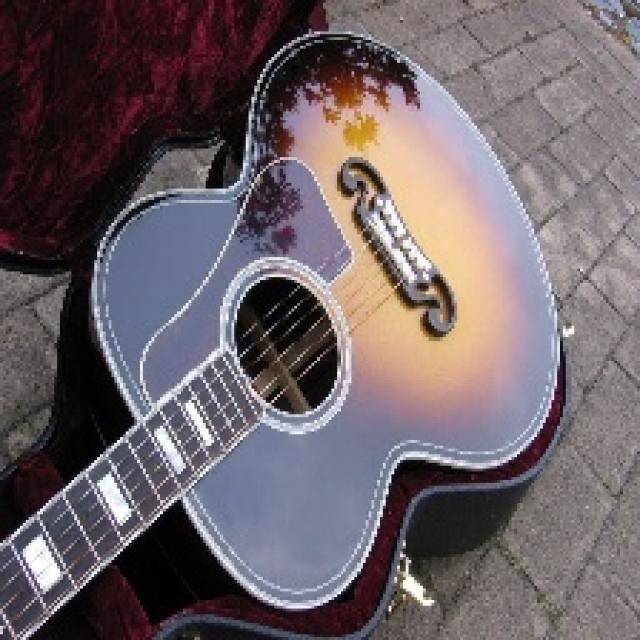guitar: (0, 29, 575, 640)
